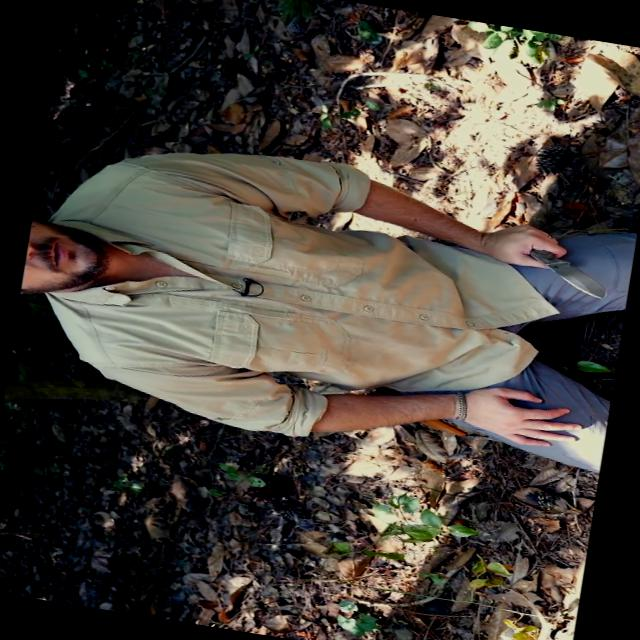knife: (475, 214, 626, 306)
